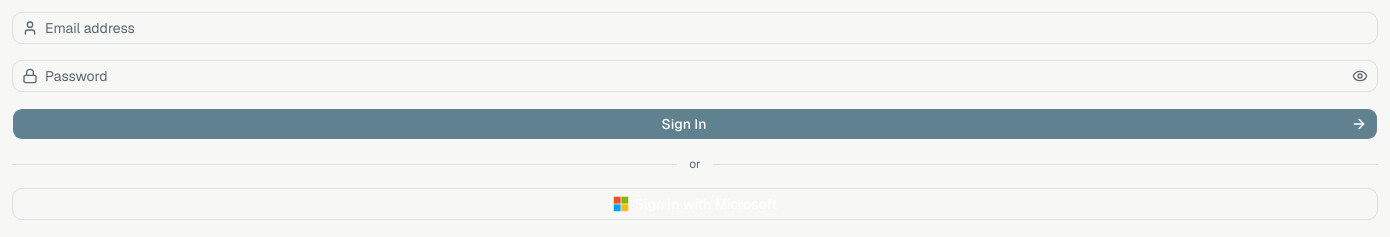
it: LoginForm › shows a spinner and disables the button while submitting
Step 1. Type "jane@himark.com" into the field labelled "Email address" → (695, 28), box [12, 12, 1378, 44]
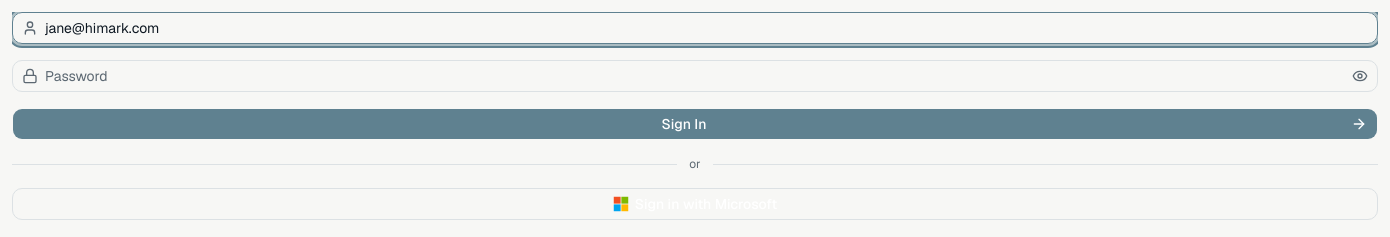
Step 2. Type "correct-password" into the password field labelled "Password" → (695, 76), box [12, 60, 1378, 92]
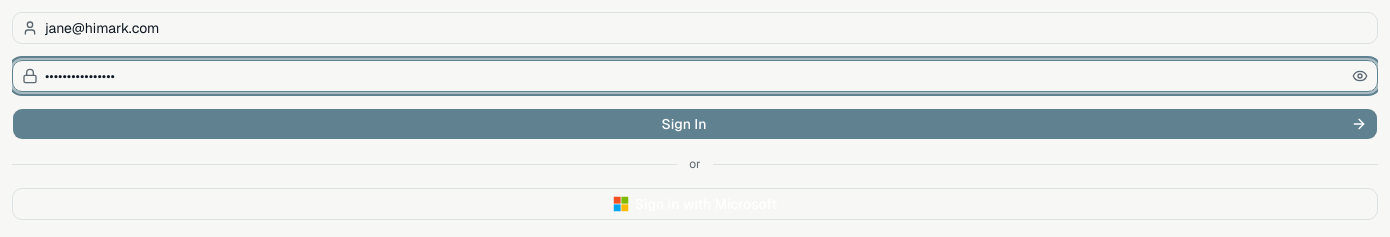
Step 3. Click the button "Sign In" → (695, 124), box [12, 108, 1378, 140]
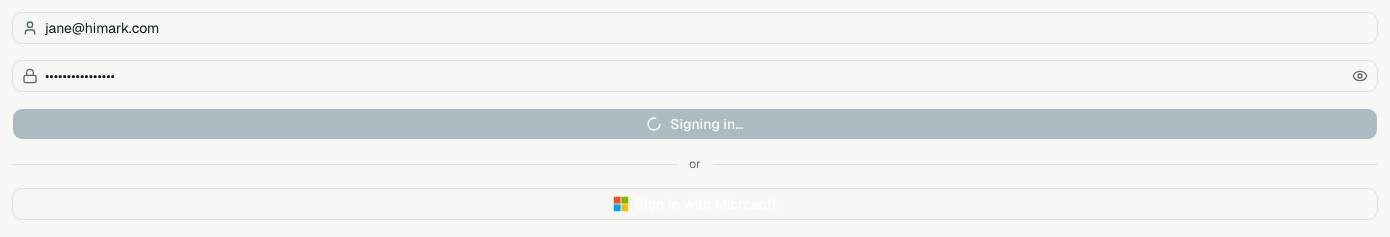
Expected: the button "Signing in…" is disabled, [12, 108, 1378, 140]
